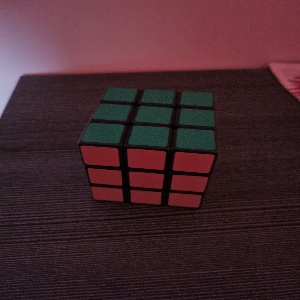cube: (75, 87, 220, 209)
